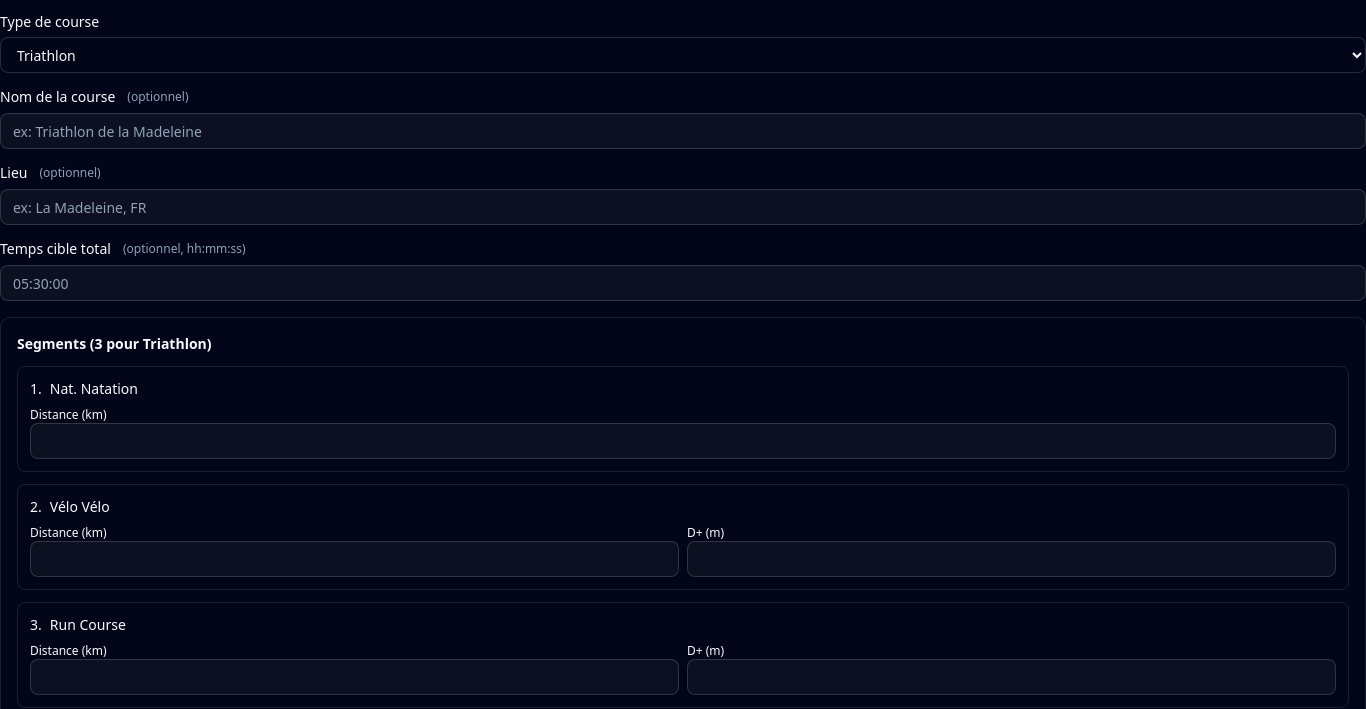
Test: StepRaceForm › updates the totals display when leg distances change
Type "1.5" into the number field labelled "Distance (km)" below "Nat." at {"x": 683, "y": 441}, box 30,423 -> 1336,459
(page scrolled)
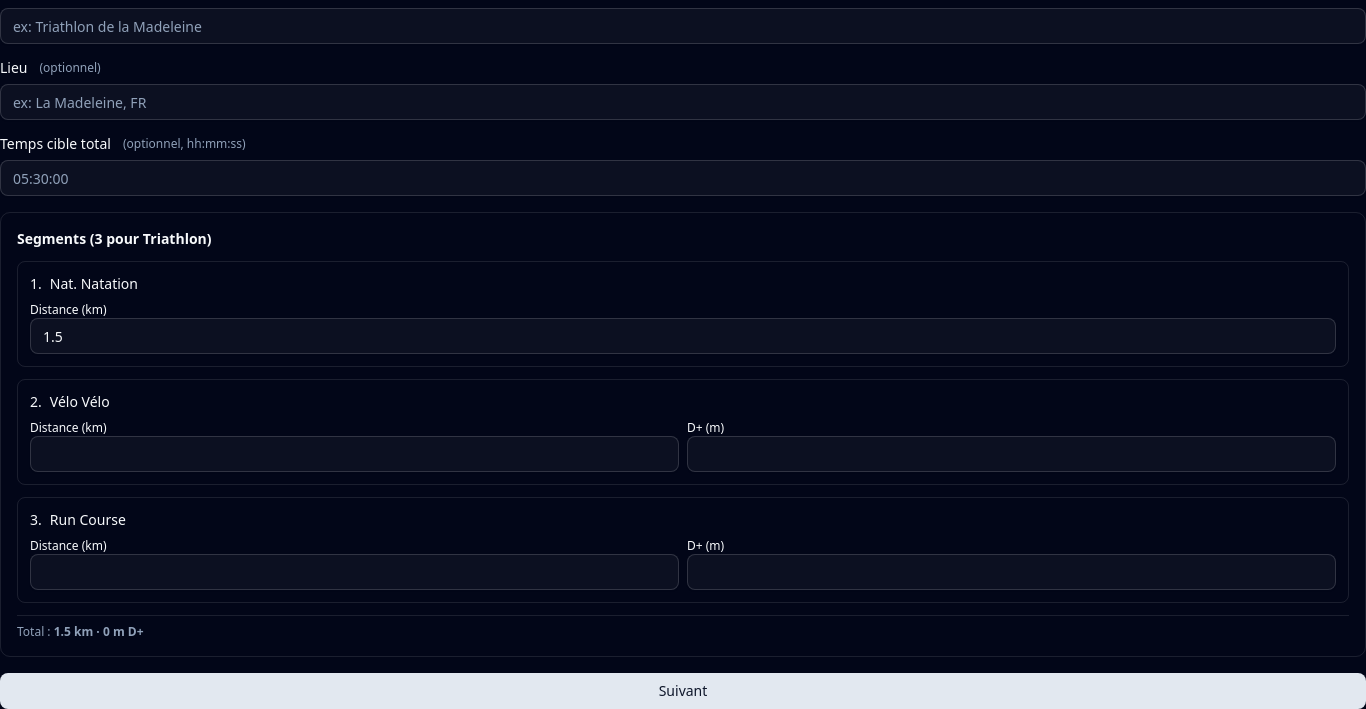
expect the text "1.5 km · 0 m D+" is shown: met, box 54,623 -> 144,640
